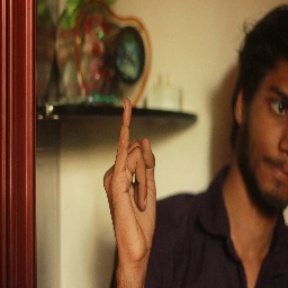I: (102, 95, 159, 251)
